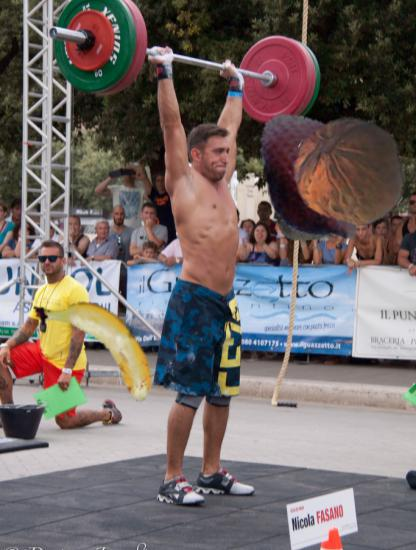Banana: (28, 277, 169, 418)
Beetroot: (273, 189, 341, 257)
Salak: (248, 106, 388, 246)
Walnut: (293, 113, 410, 230)
